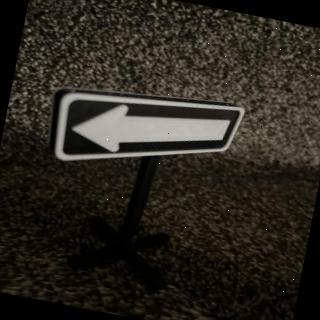sign_oneway_left: (42, 72, 247, 196)
